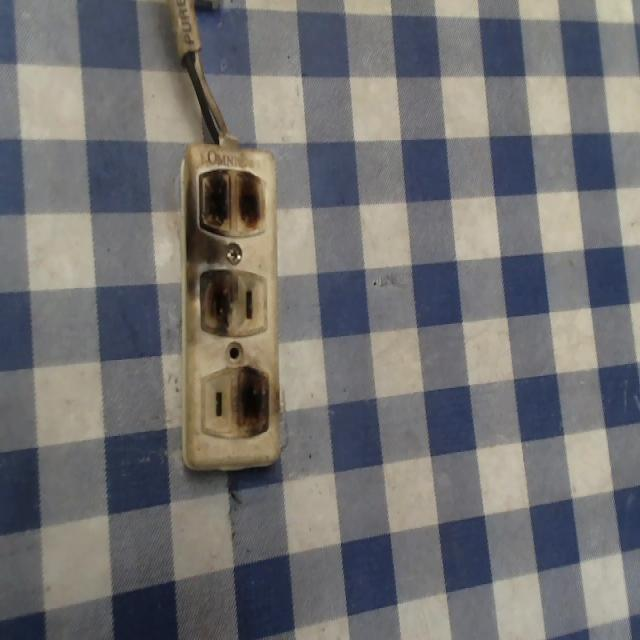-: (193, 165, 269, 235), (229, 363, 275, 436), (193, 265, 235, 339)
